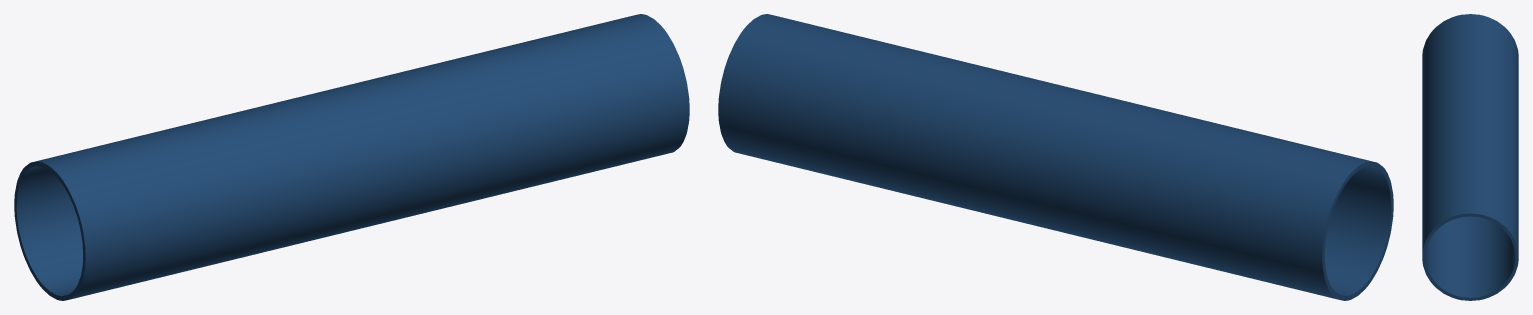
File: telescope_tube.glb
3 views of the same model, side by side, from view 1: azimuth 30°, elevation 25°; view 2: azimuth 150°, elevation 25°; view 3: azimuth 270°, elevation 25° (orthographic). The views are drawn at different scales.
Parts seen in each view (by area): view 1: telescope_tube; view 2: telescope_tube; view 3: telescope_tube.
Part boxes in pixels (left/top/right/bottom): telescope_tube: left=14, top=14, right=689, bottom=300; telescope_tube: left=718, top=14, right=1393, bottom=300; telescope_tube: left=1422, top=14, right=1518, bottom=300.
Size of the model in its own units: 0.42 by 0.086 by 0.086.
